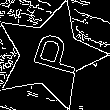P_W: (18, 30, 81, 80)
